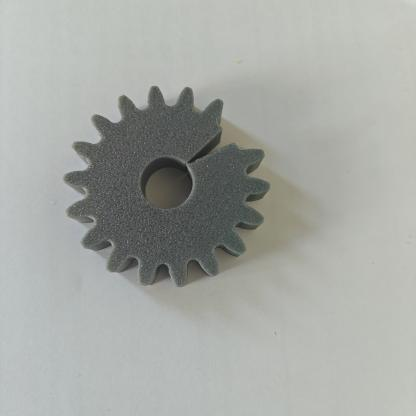defect: (152, 101, 268, 182)
gear: (54, 82, 284, 295)
